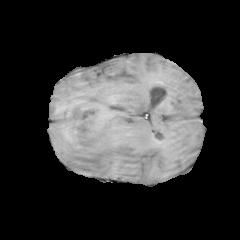glioma: (52, 98, 149, 173)
